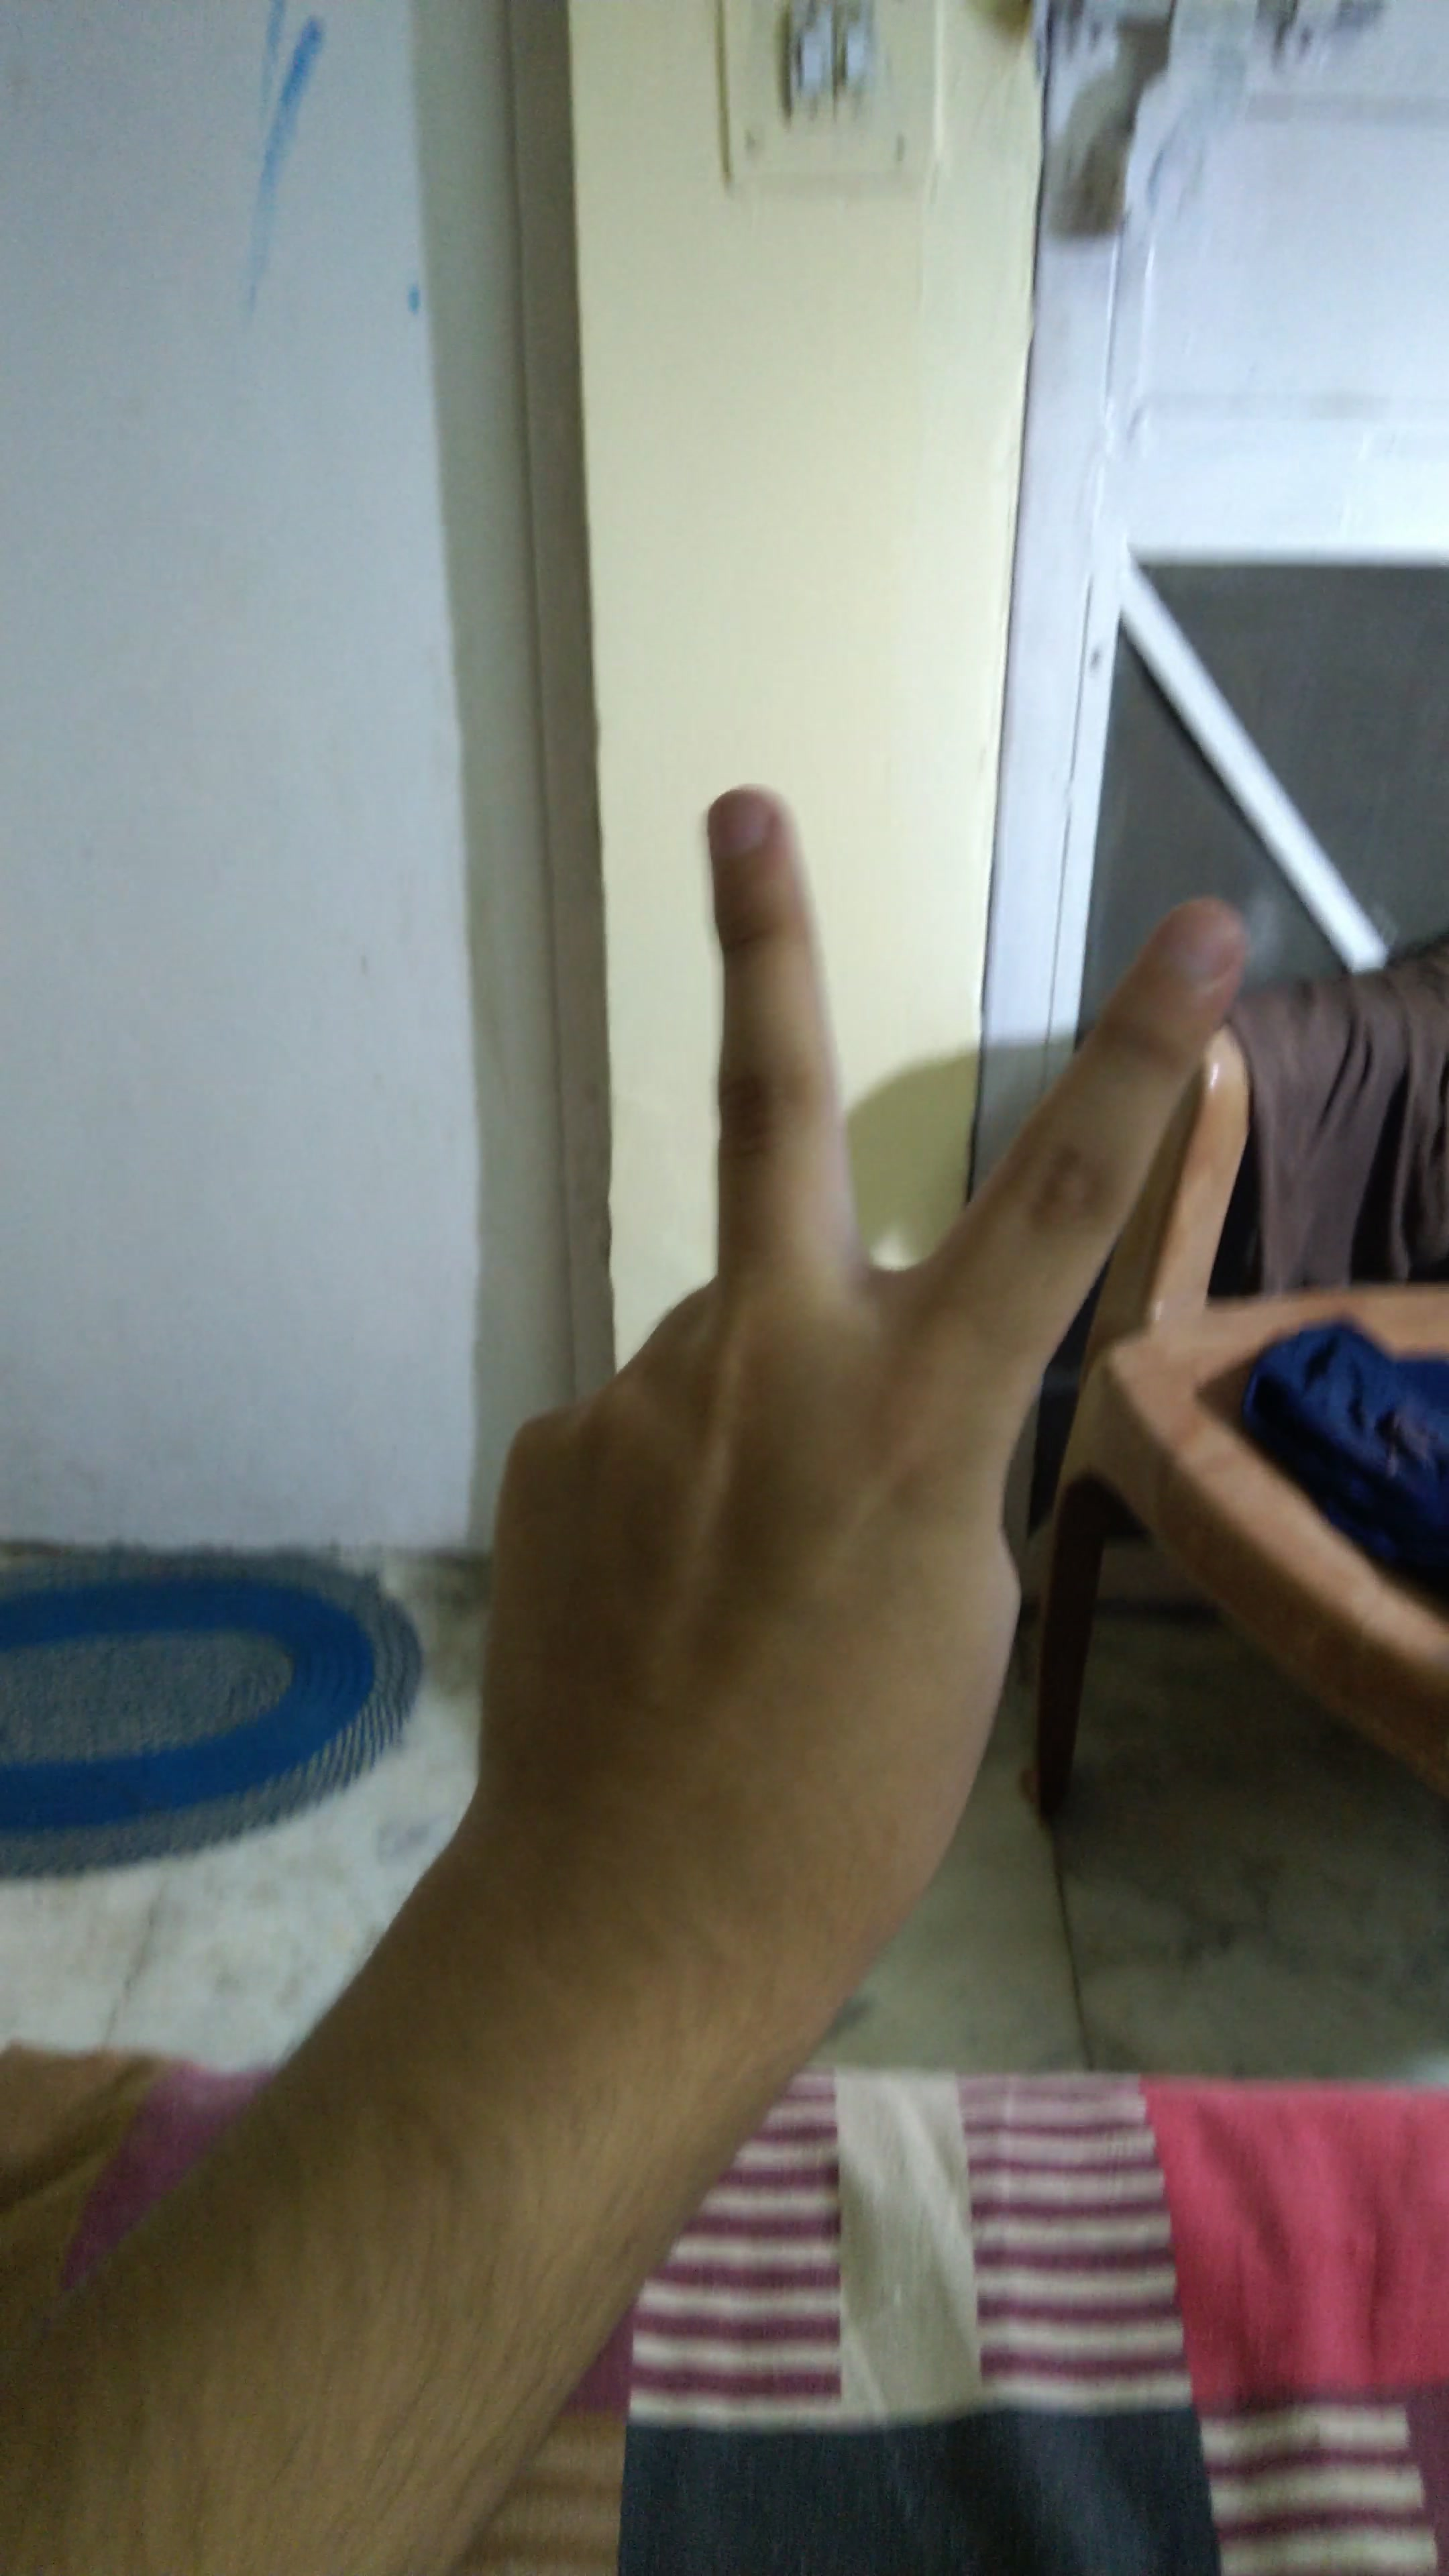hand: (349, 731, 1265, 2045)
